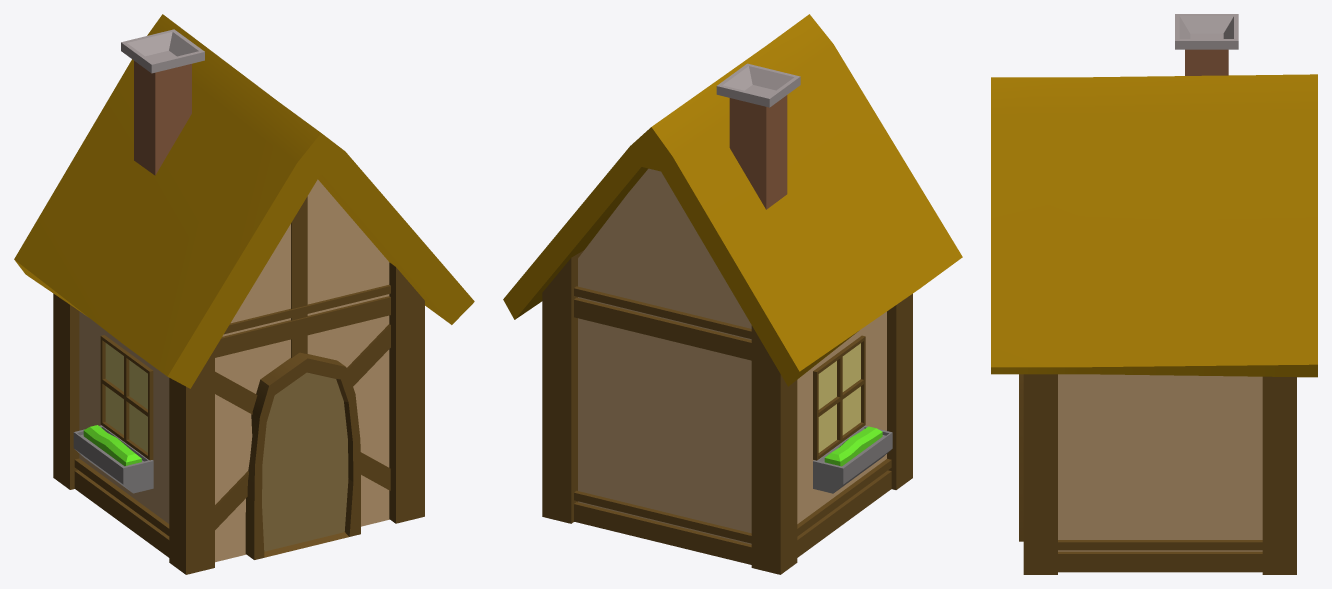
The model's file is mesh_SMol_House.fbx.
3 renders of one model, left to right at view 1: azimuth 30°, elevation 25°; view 2: azimuth 150°, elevation 25°; view 3: azimuth 270°, elevation 25°, orthographic. The views are drawn at different scales.
Visible parts, largest first — view 1: SMol_House; view 2: SMol_House; view 3: SMol_House.
Part boxes in pixels (x1,y1,x2,y2): SMol_House: [14, 14, 474, 574]; SMol_House: [503, 14, 962, 574]; SMol_House: [991, 14, 1317, 574].
Size of the model in its own units: 418 by 581 by 373.
1 material, 1 textured.
